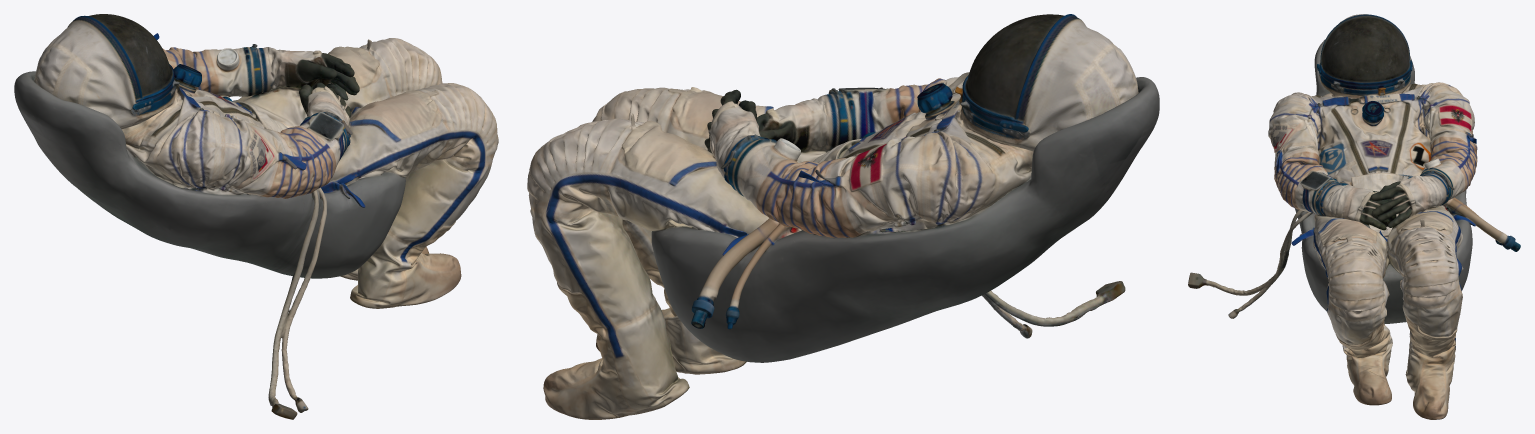
Rendered from austronant-3.glb.
3 renders of one model, left to right at view 1: azimuth 30°, elevation 25°; view 2: azimuth 150°, elevation 25°; view 3: azimuth 270°, elevation 25°, orthographic. The views are drawn at different scales.
Visible parts, largest first — view 1: Object_2.001, Object_3.001; view 2: Object_3.001, Object_2.001; view 3: Object_3.001, Object_2.001.
Boxes of the visible parts, bbox=[...] form: Object_2.001: bbox=[26, 29, 498, 419]; Object_3.001: bbox=[14, 14, 492, 280]; Object_3.001: bbox=[527, 14, 1159, 419]; Object_2.001: bbox=[527, 22, 1155, 407]; Object_3.001: bbox=[1270, 14, 1474, 419]; Object_2.001: bbox=[1188, 14, 1520, 405].
Bounding box in the file's own units: 1.69 × 1.28 × 1.42.
1 material, 1 textured.
